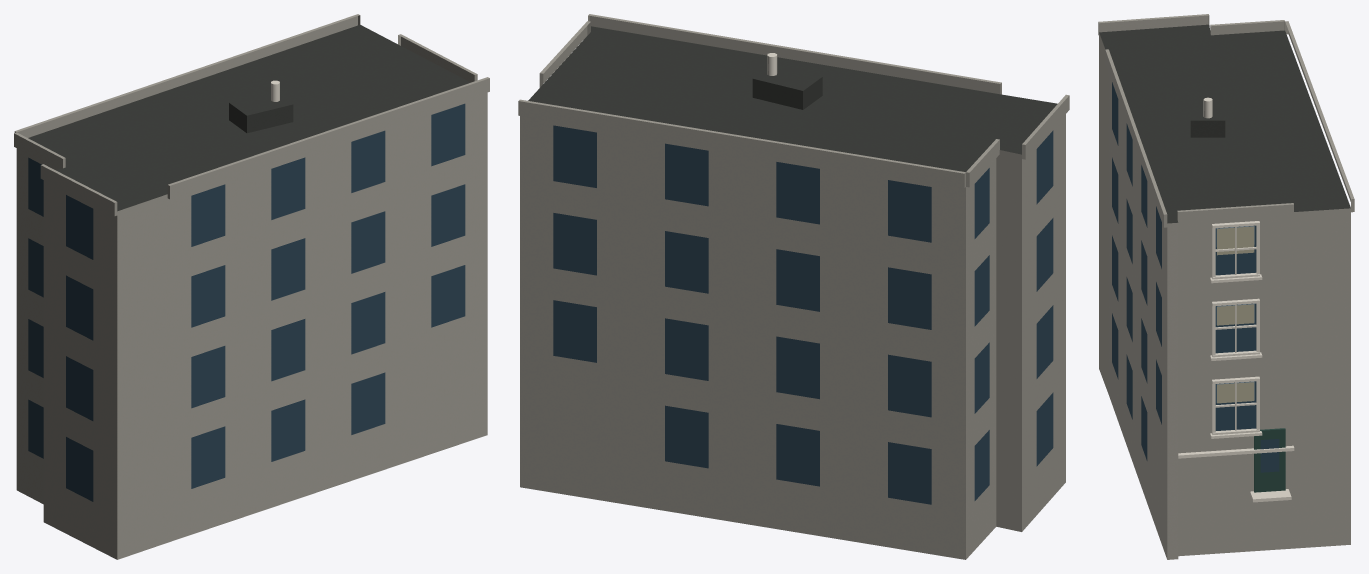
3 views of the same model, side by side, from view 1: azimuth 30°, elevation 25°; view 2: azimuth 150°, elevation 25°; view 3: azimuth 270°, elevation 25° (orthographic). The views are drawn at different scales.
Visible parts, largest first — view 1: Footprint 0 / surface 2, Inset glazing, Footprint 0 / surface 1, Facade bay volumes, Inferred rooftop service enclosure / surface 5, Inferred rooftop service enclosure / surface 3; view 2: Footprint 0 / surface 2, Inset glazing, Footprint 0 / surface 1, Facade bay volumes, Inferred rooftop service enclosure / surface 6, Inferred rooftop service enclosure / surface 3; view 3: Footprint 0 / surface 2, Footprint 0 / surface 1, Inset glazing, Facade bay volumes, Cornices and window frames, Interior blind variation, Storefronts and doors, Inferred rooftop service enclosure / surface 1, Inferred rooftop service enclosure / surface 3.
Part boxes in pixels (x1,y1,x2,y2): Footprint 0 / surface 2: (16,92,487,559); Inset glazing: (28,103,465,501); Footprint 0 / surface 1: (28,24,470,211); Facade bay volumes: (14,14,489,216); Inferred rooftop service enclosure / surface 5: (247,104,293,133); Inferred rooftop service enclosure / surface 3: (229,92,292,115); Footprint 0 / surface 2: (520,31,1065,559); Inset glazing: (553,125,1053,504); Footprint 0 / surface 1: (528,26,1057,171); Facade bay volumes: (518,14,1069,188); Inferred rooftop service enclosure / surface 6: (752,79,802,109); Inferred rooftop service enclosure / surface 3: (753,66,822,90); Footprint 0 / surface 2: (1099,33,1350,559); Footprint 0 / surface 1: (1099,24,1350,223); Inset glazing: (1112,82,1279,472); Facade bay volumes: (1098,14,1354,227); Cornices and window frames: (1178,221,1294,502); Interior blind variation: (1217,226,1254,403); Storefronts and doors: (1254,428,1285,492); Inferred rooftop service enclosure / surface 1: (1190,120,1225,137); Inferred rooftop service enclosure / surface 3: (1190,99,1225,120).
Bounding box in the file's own units: 16.47 × 14.18 × 8.88.
